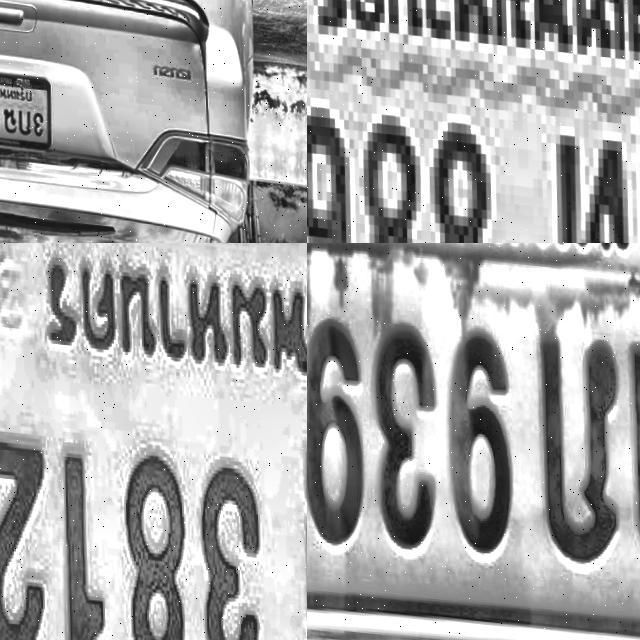license-plate: (307, 243, 640, 640), (0, 243, 307, 640), (307, 0, 640, 243), (0, 60, 49, 143)
